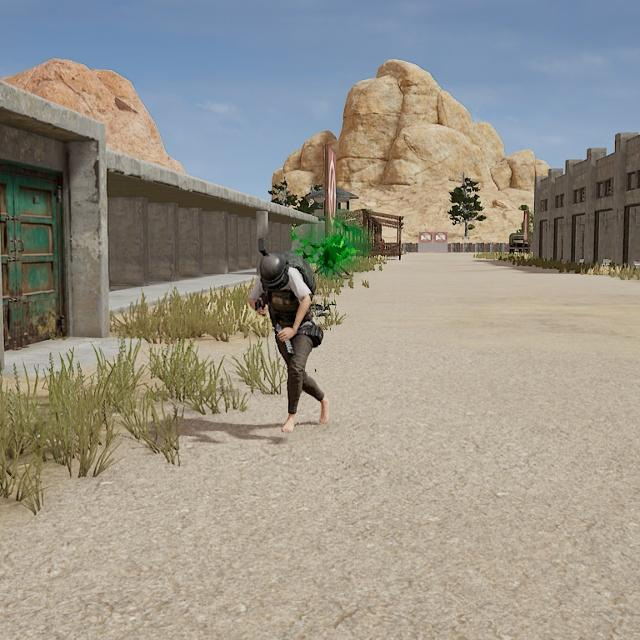head: (258, 254, 290, 293)
people: (246, 251, 330, 433)
